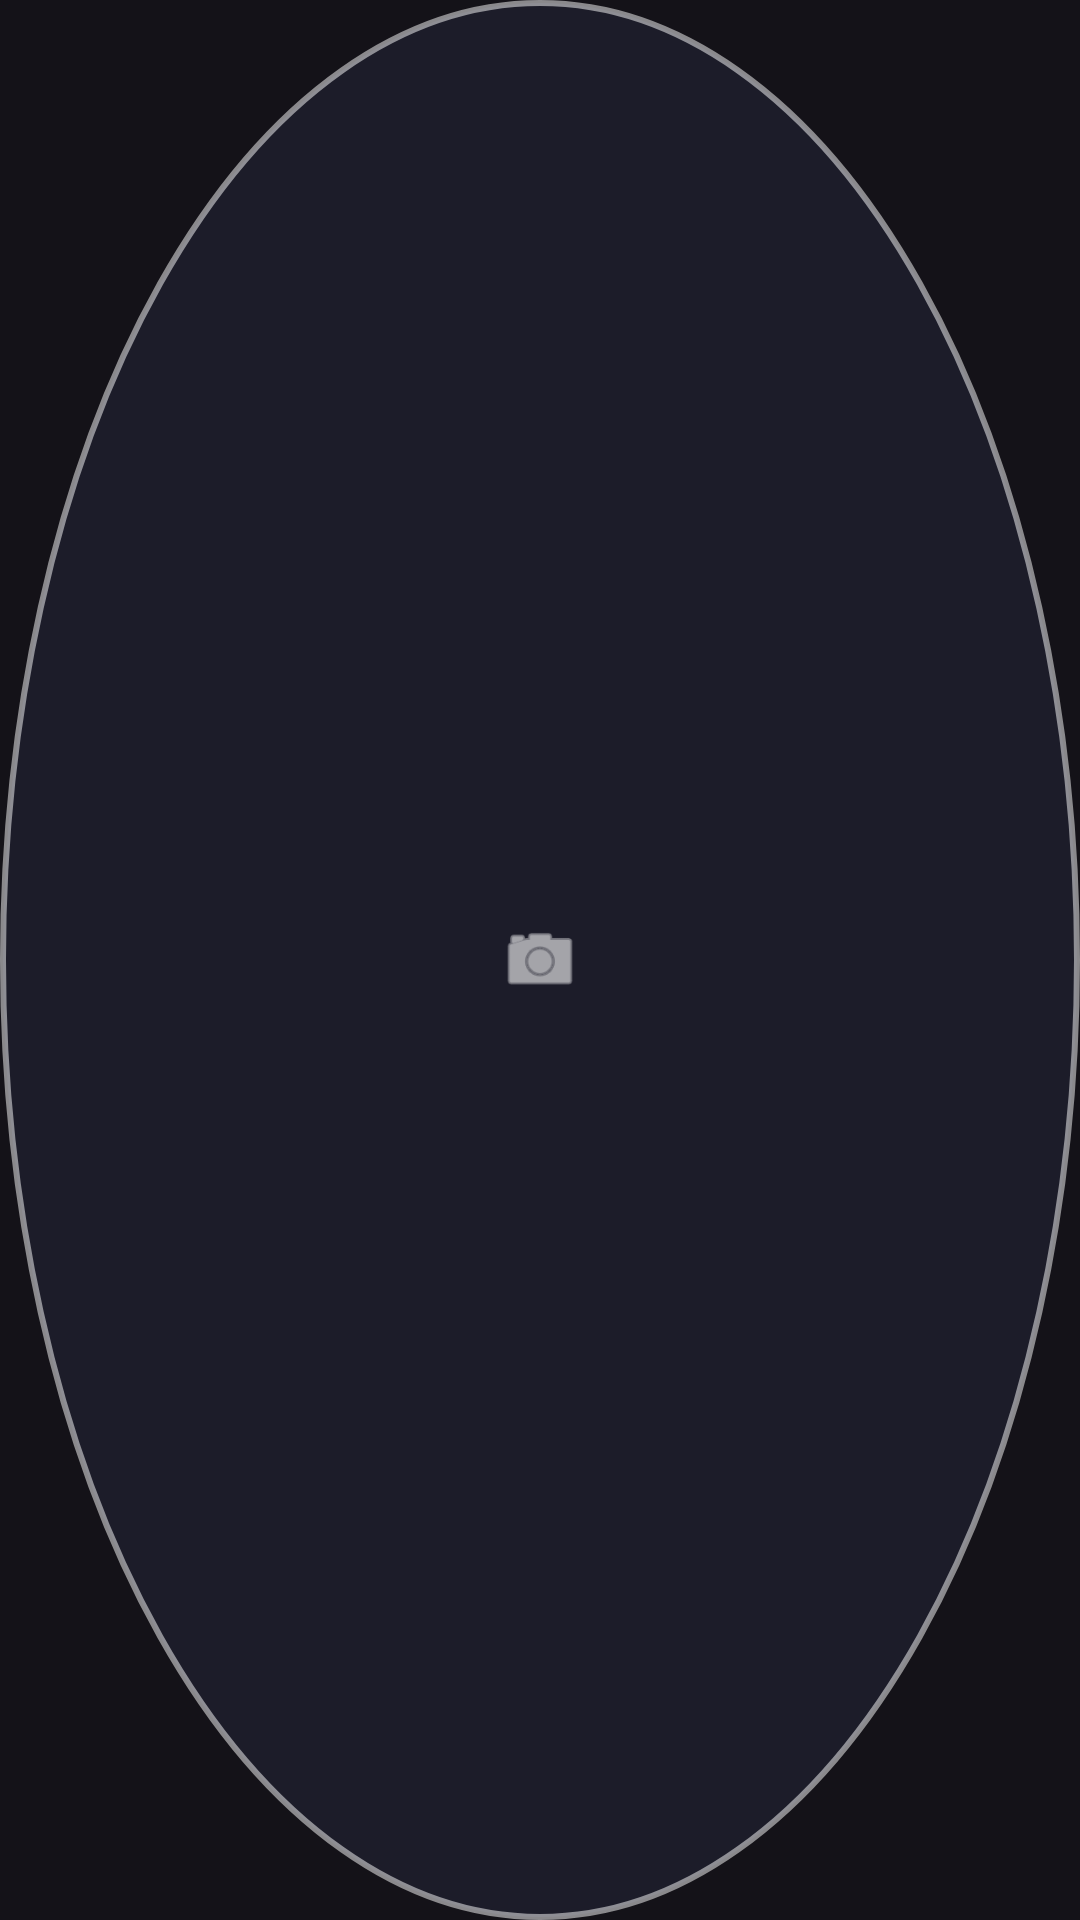

Where icons sit on this 1080 × 1920 app screen, as (x1, y1, x2, y2):
Ouvrir le miroir: (508, 933, 572, 985)
